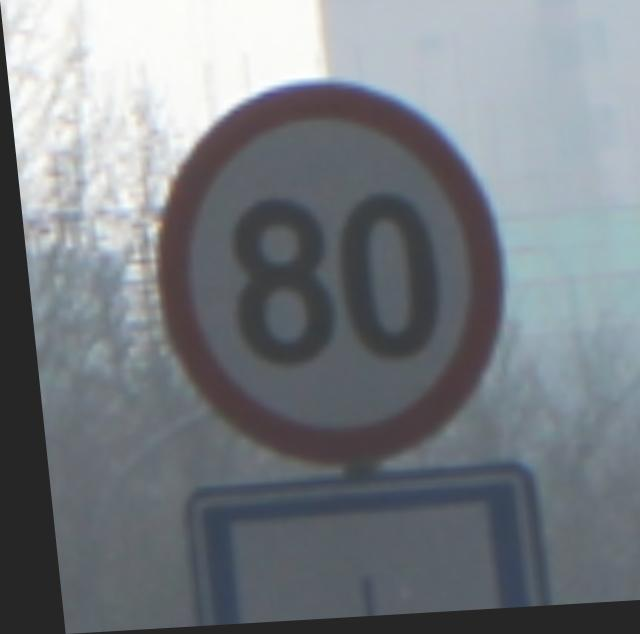limit80: (44, 31, 541, 482)
